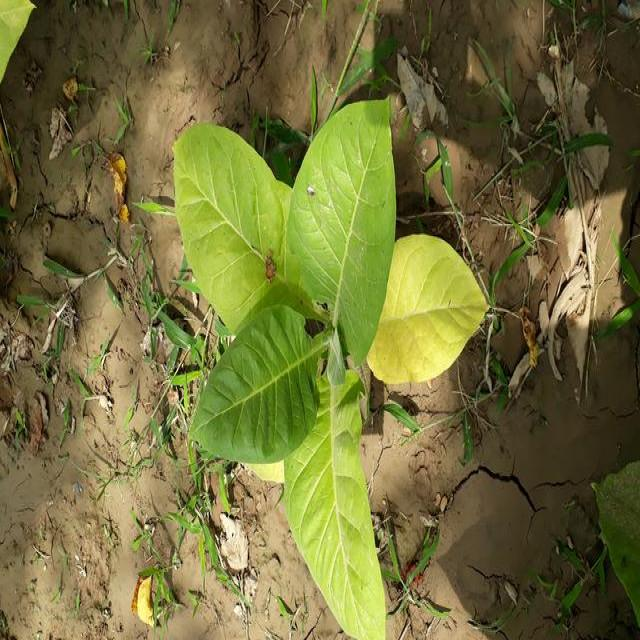crop: (150, 111, 477, 640)
